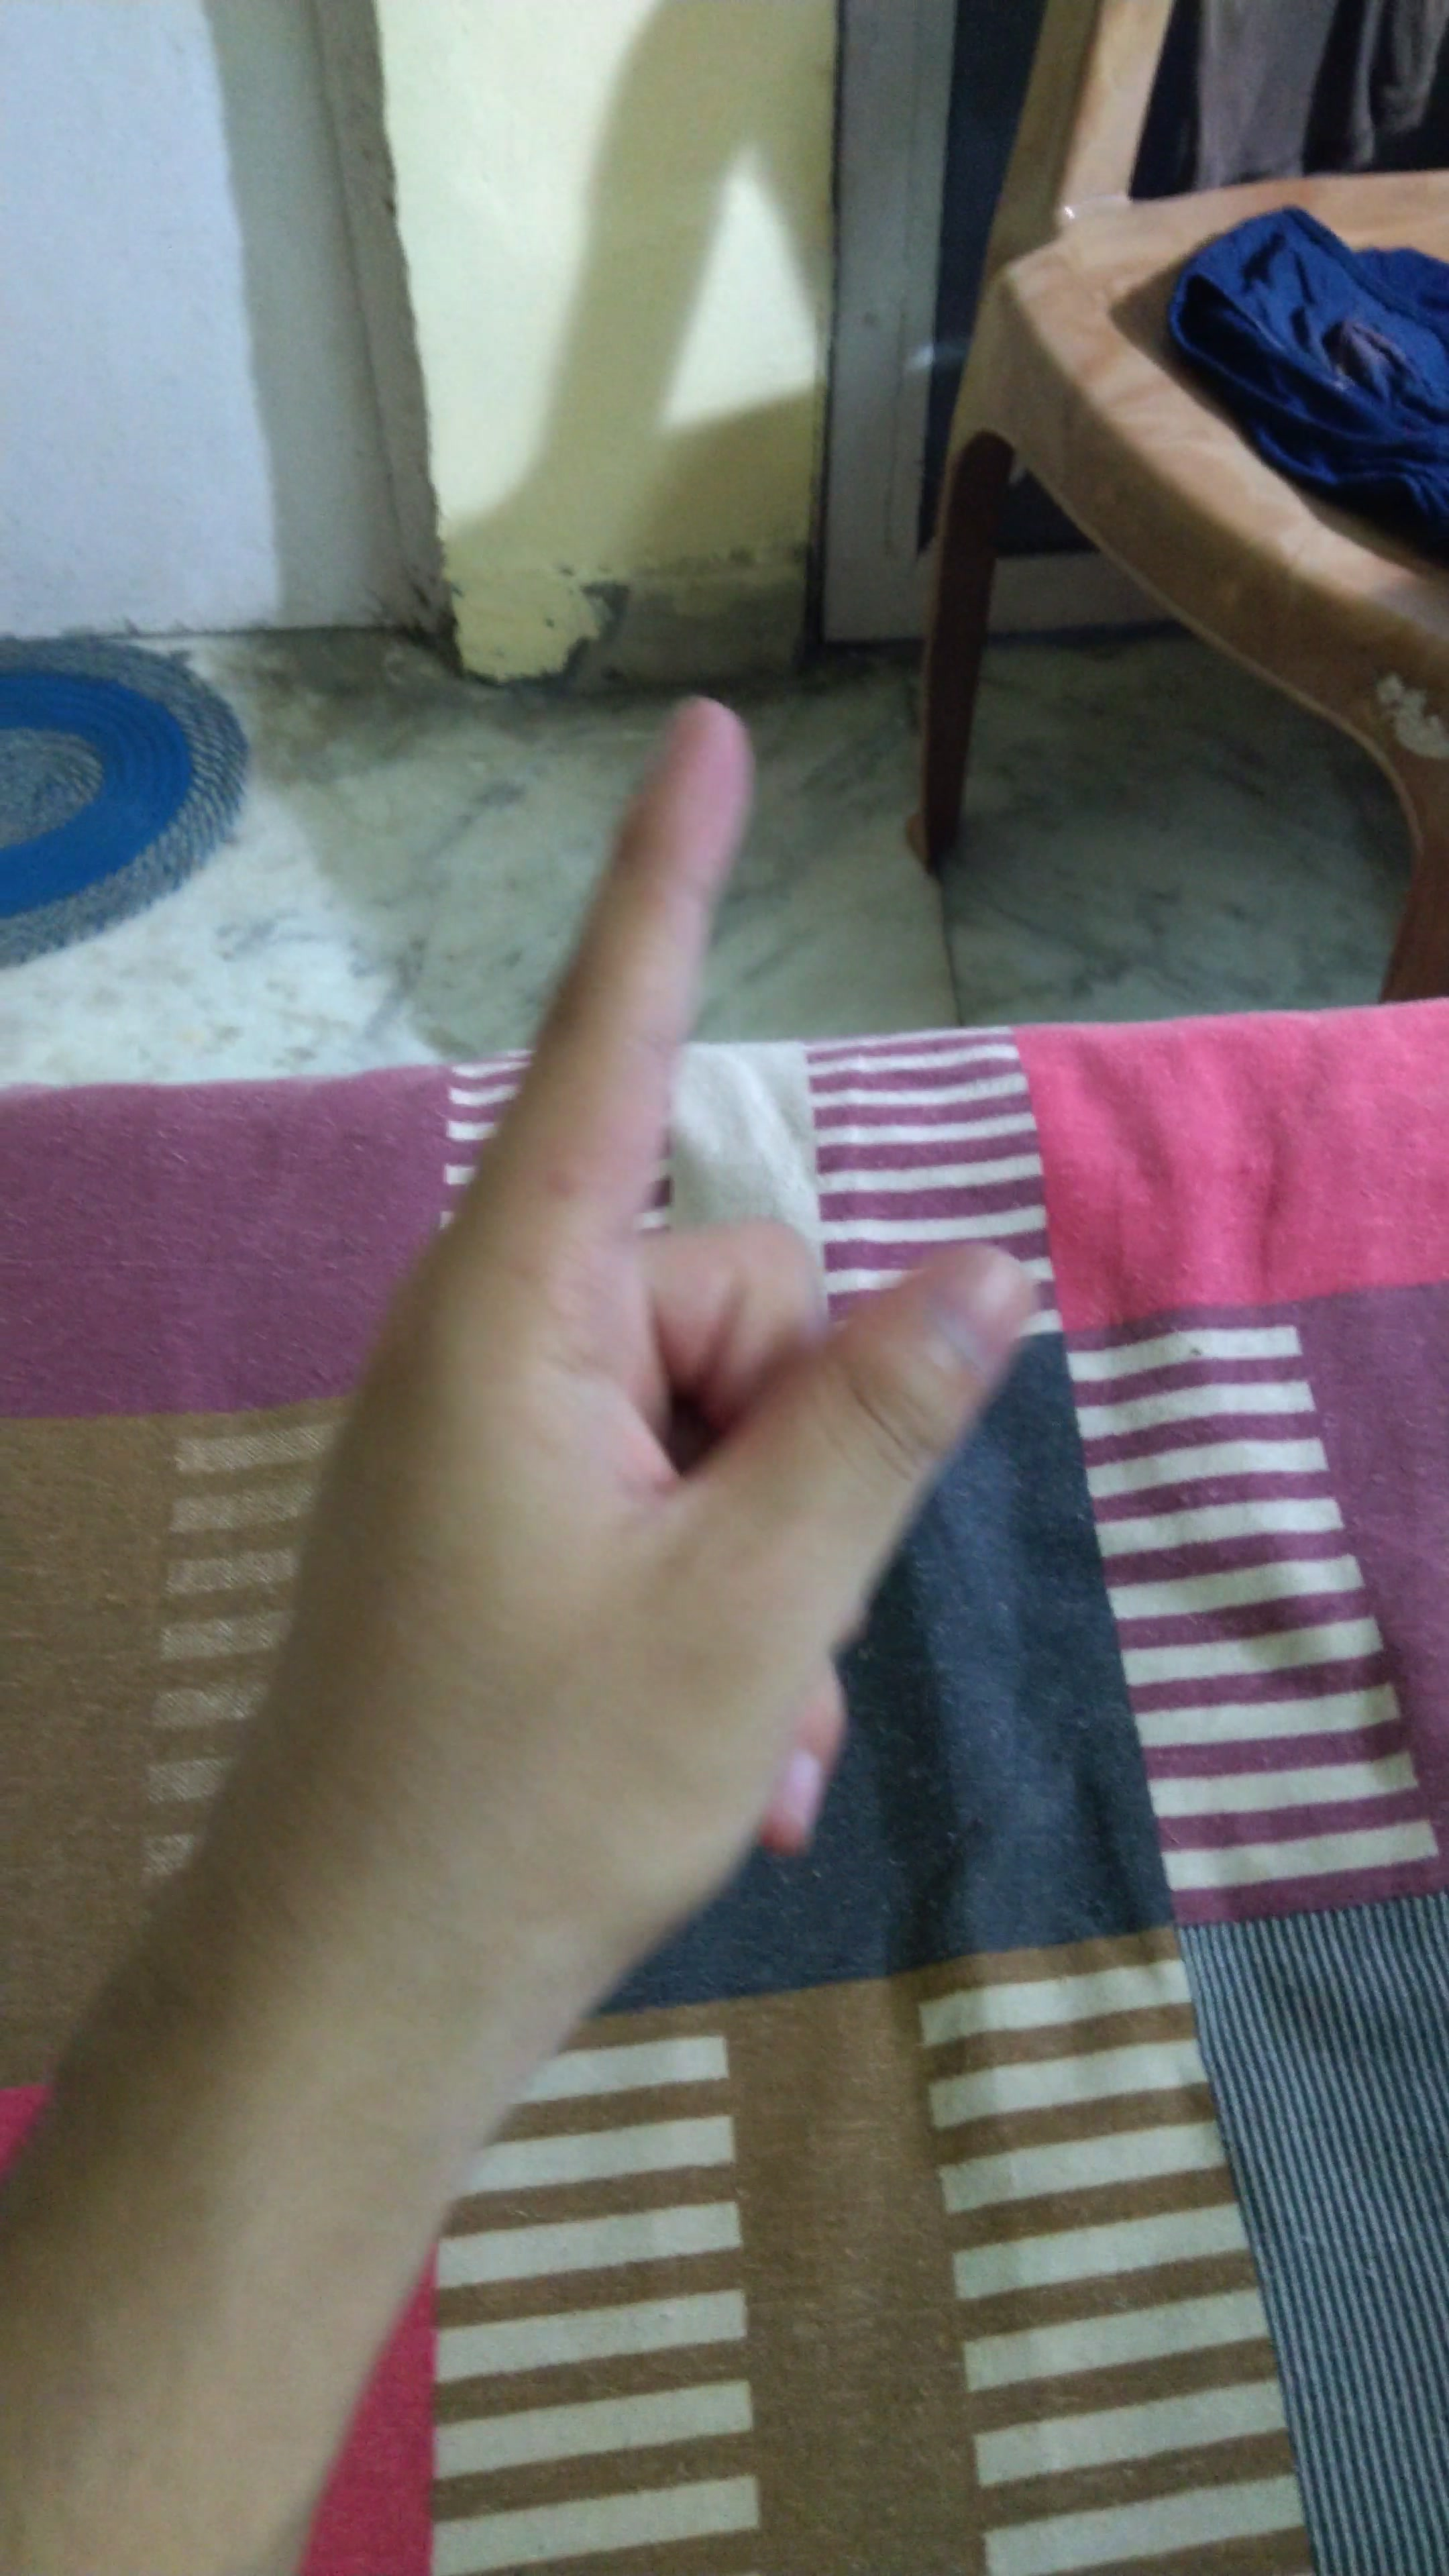hand: (258, 655, 1086, 2112)
